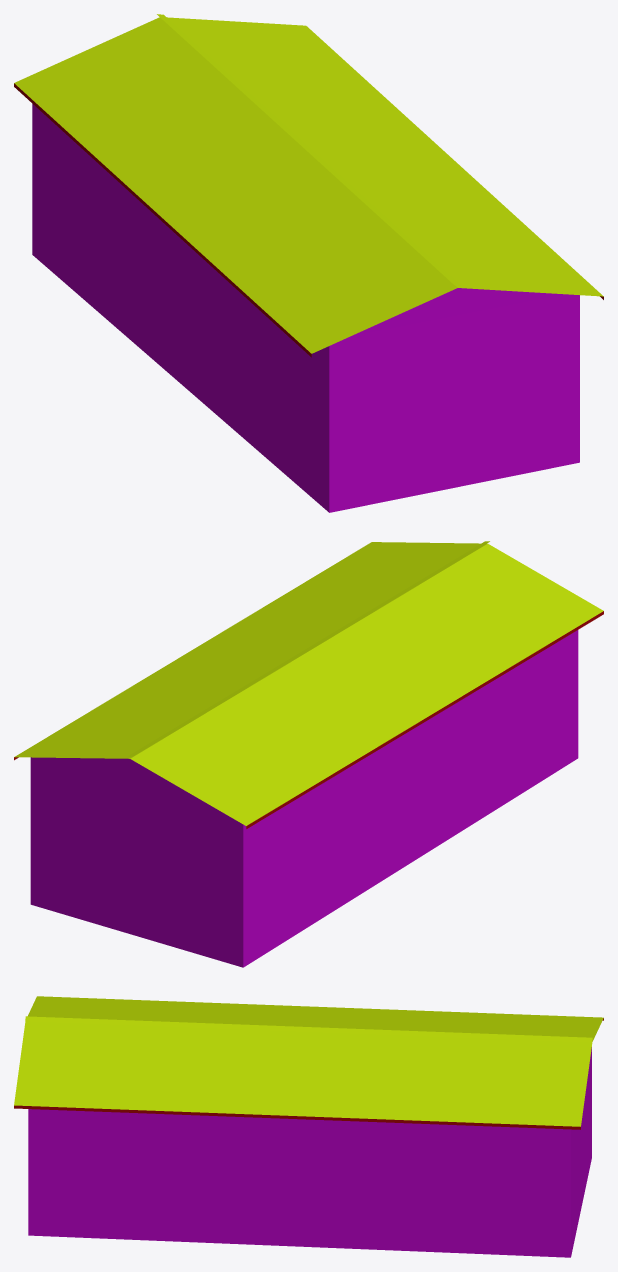
File: hangar_ferme_10.glb
The picture shows the model from 3 angles, top to bottom: view 1: azimuth 30°, elevation 25°; view 2: azimuth 150°, elevation 25°; view 3: azimuth 270°, elevation 25°; orthographic projection. The views are drawn at different scales.
Parts seen in each view (by area): view 1: hangar_ferme_10; view 2: hangar_ferme_10; view 3: hangar_ferme_10.
Boxes of the visible parts, x1,y1,x2,y2 form: hangar_ferme_10: (14, 14, 603, 512); hangar_ferme_10: (14, 541, 603, 967); hangar_ferme_10: (14, 996, 603, 1257).
Size of the model in its own units: 11.2 by 6.76 by 21.38.
